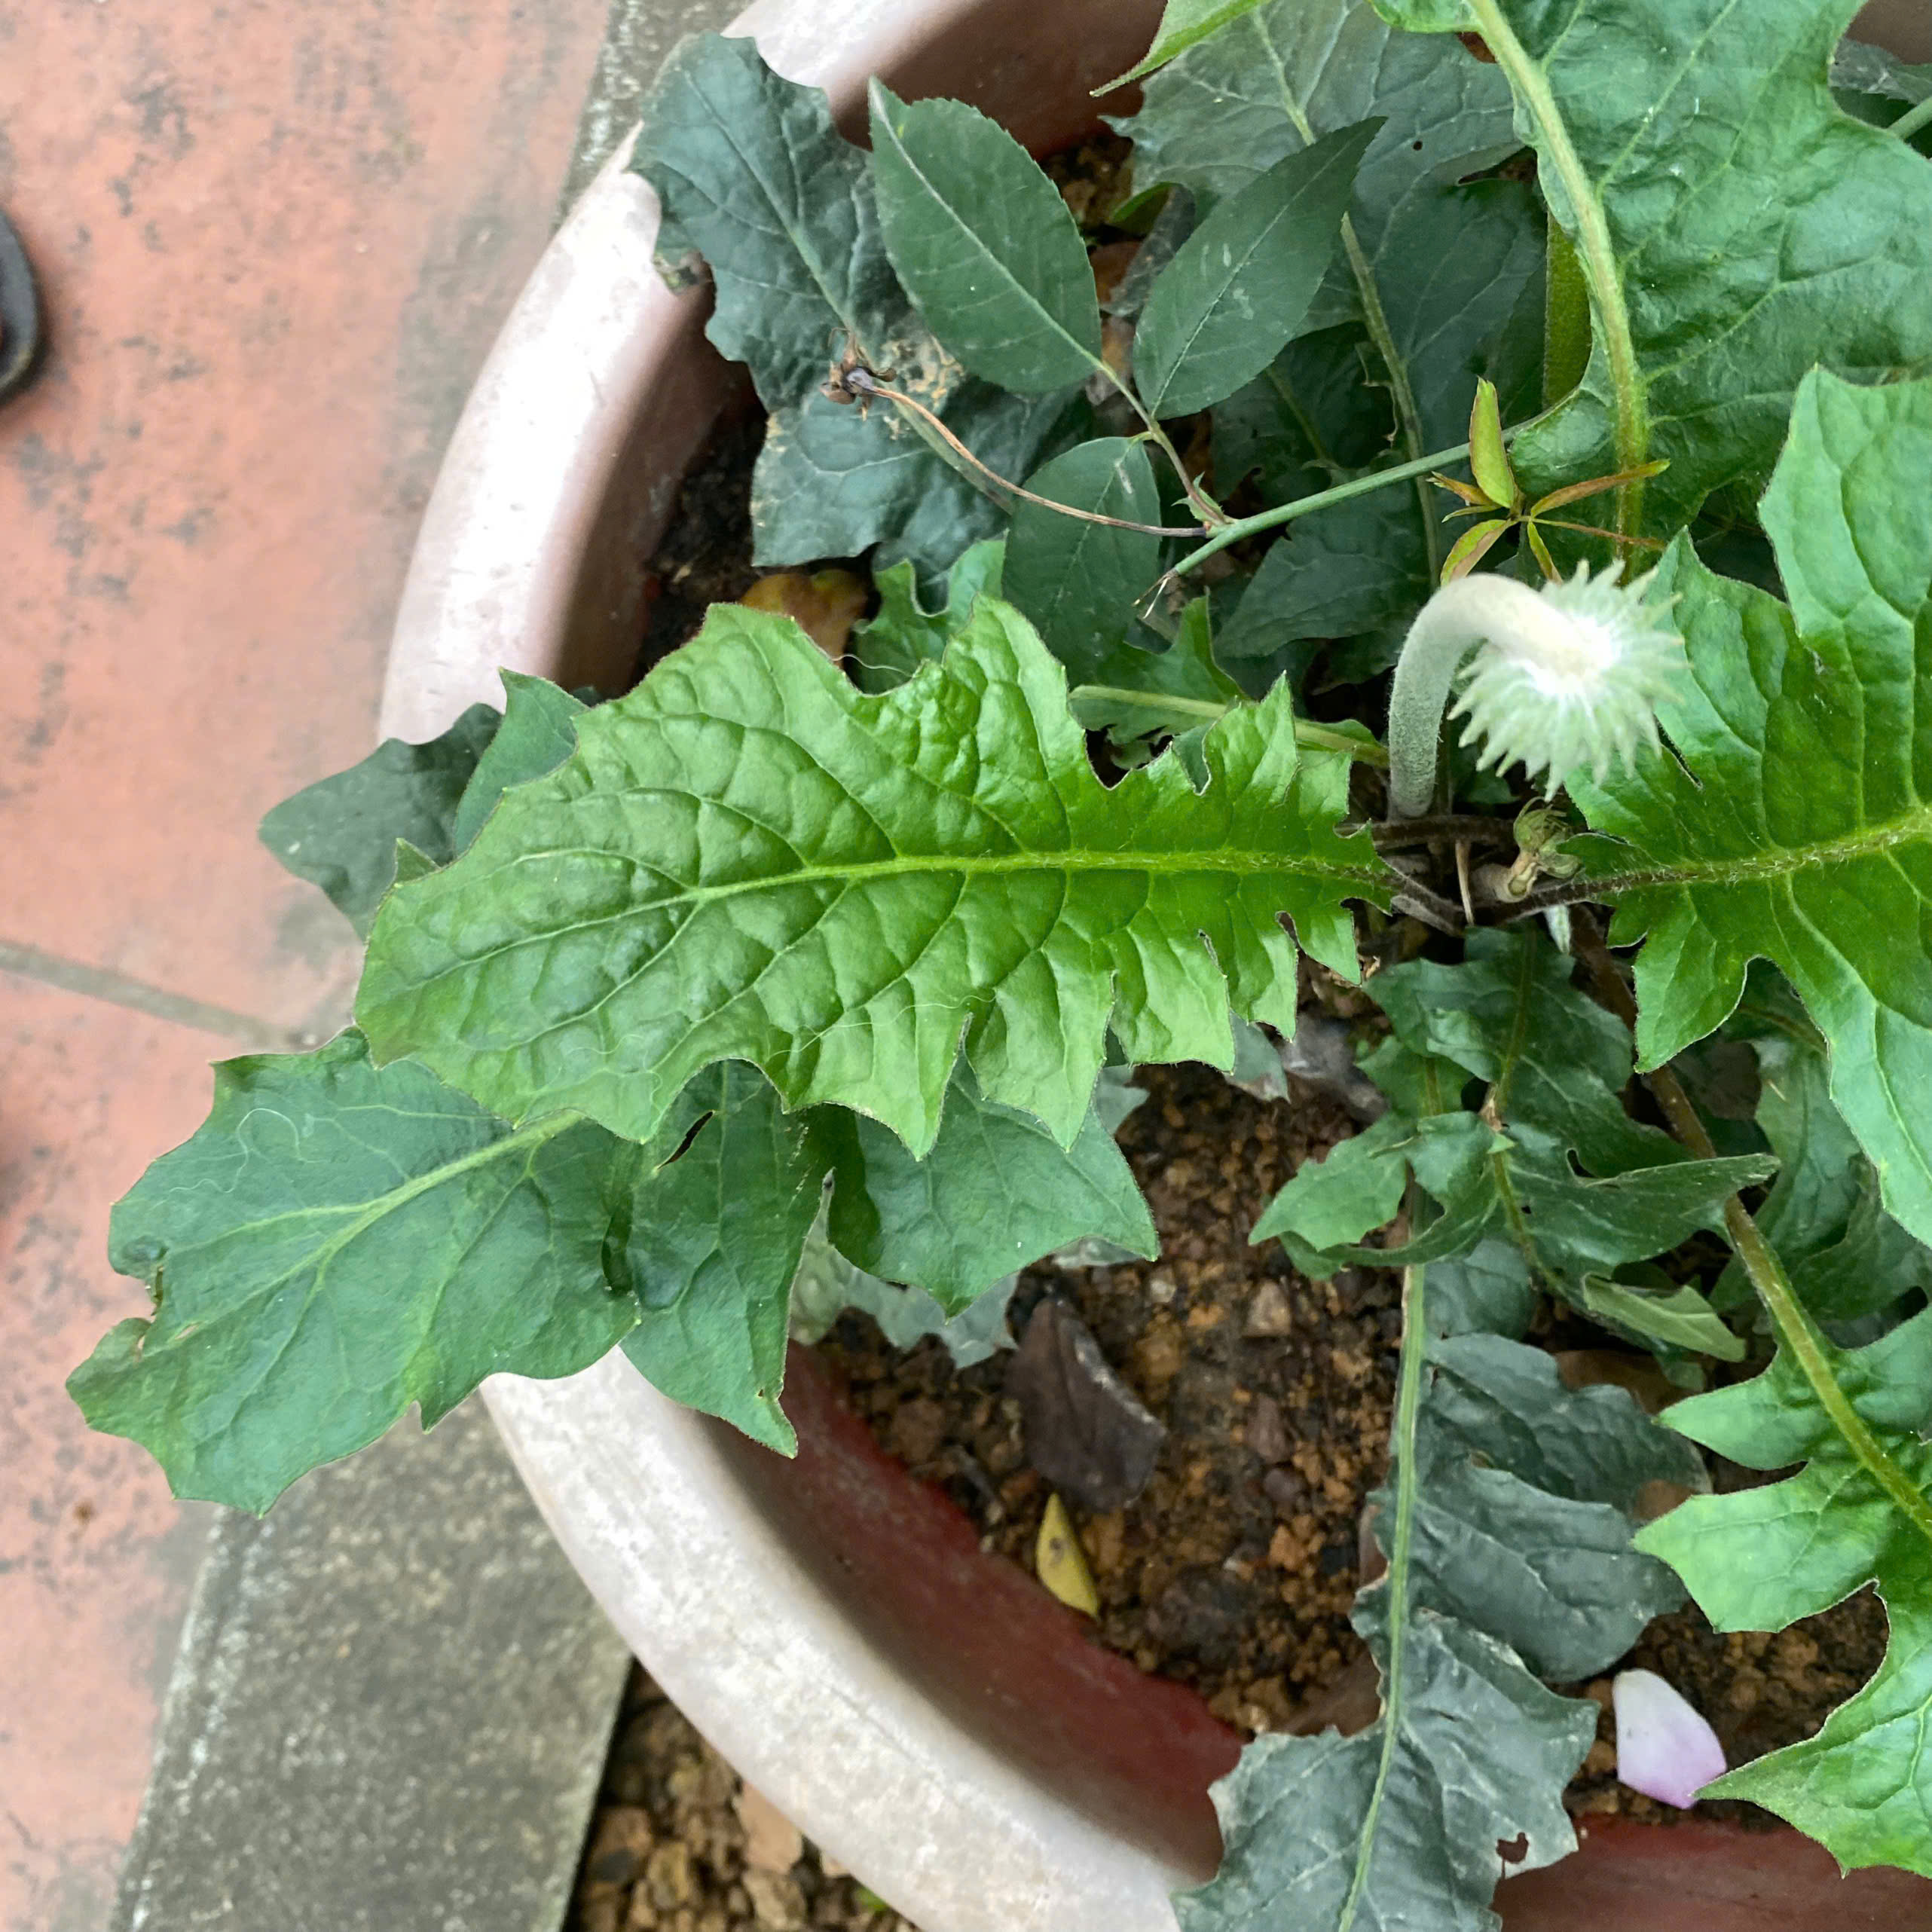hoa_huong_duong: (288, 525, 1881, 1265)
